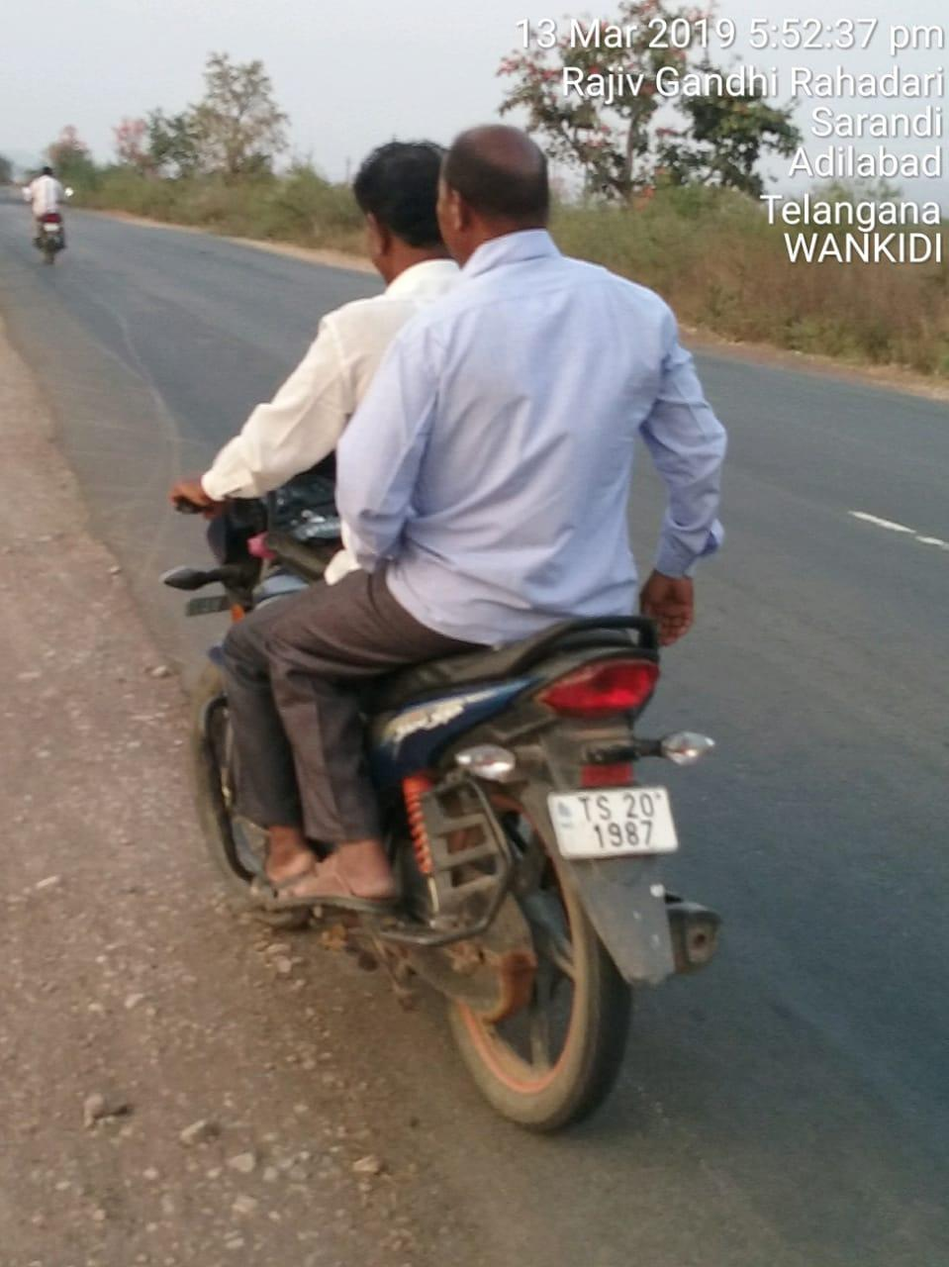plate: (538, 783, 686, 871)
